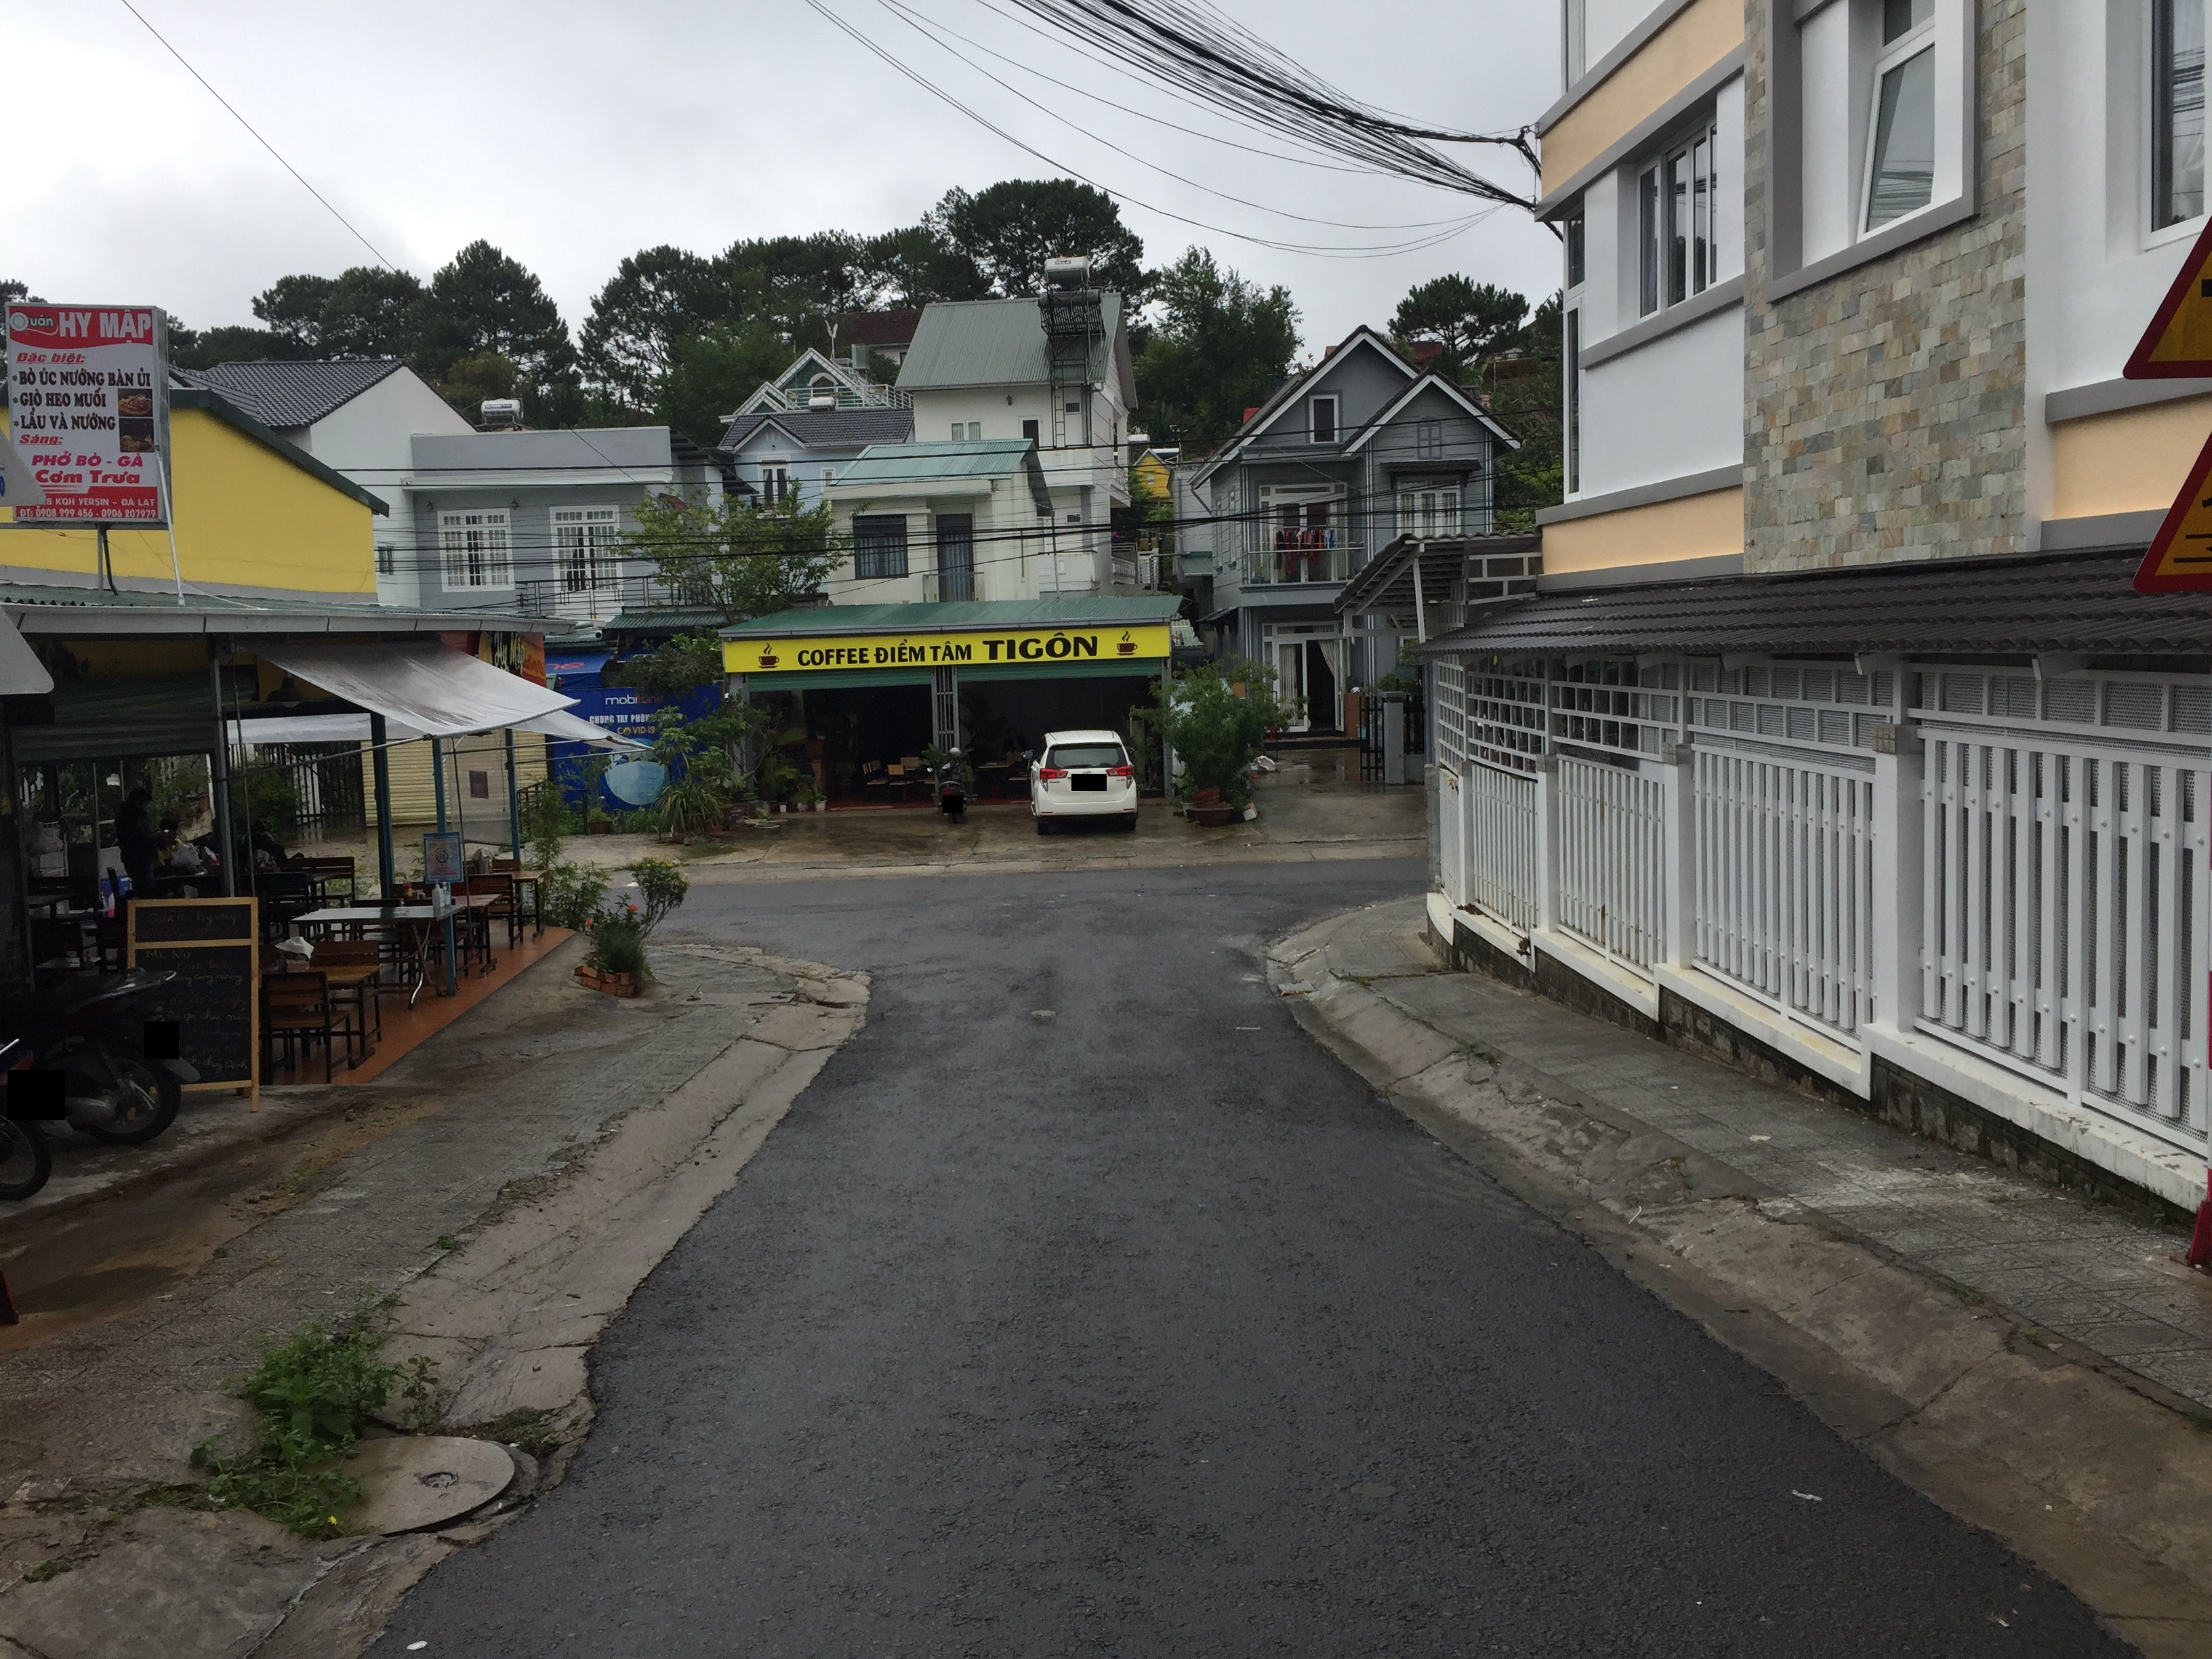hole: (479, 1394, 610, 1504), (1029, 1007, 1057, 1016)
